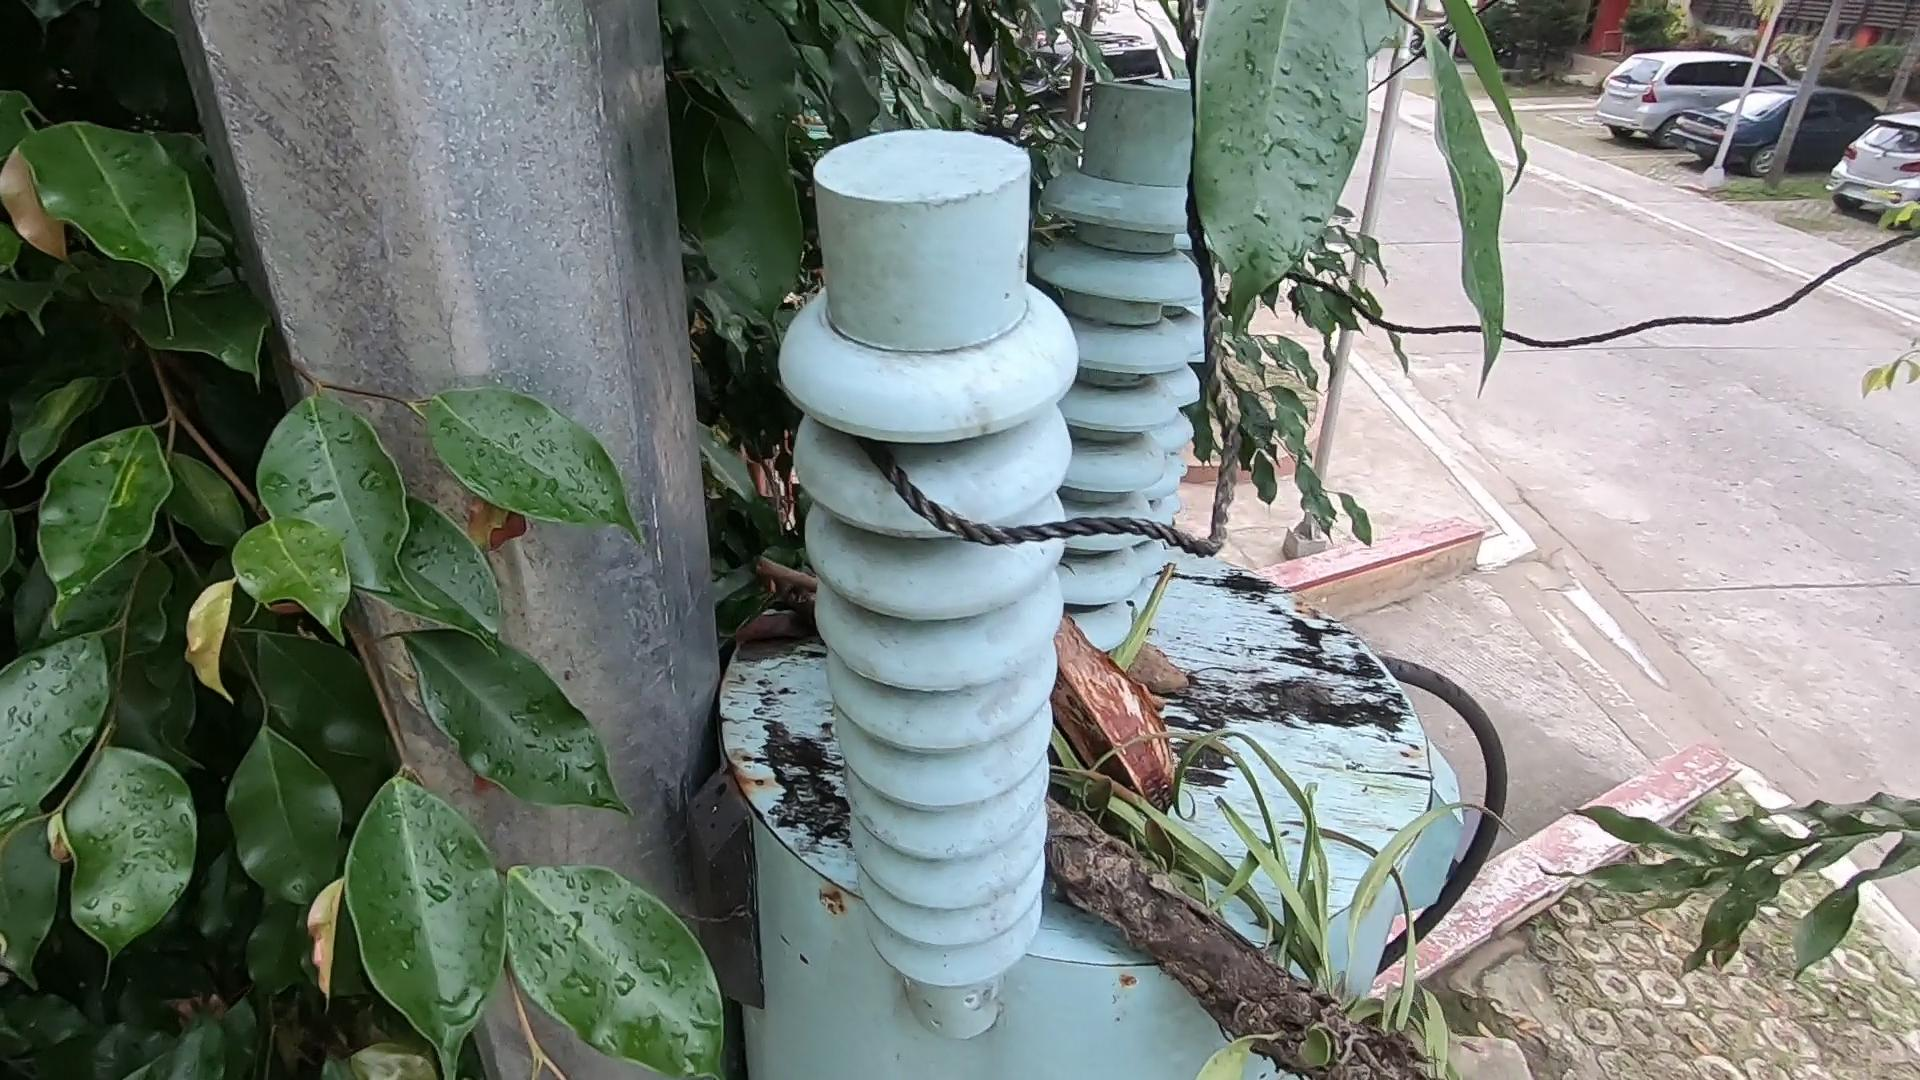branch with leaves: (1011, 769, 1457, 1080)
leaf: (731, 592, 825, 644)
mahogany fruit: (1015, 609, 1269, 858), (1101, 624, 1216, 698)
tree branch: (756, 546, 847, 609)
